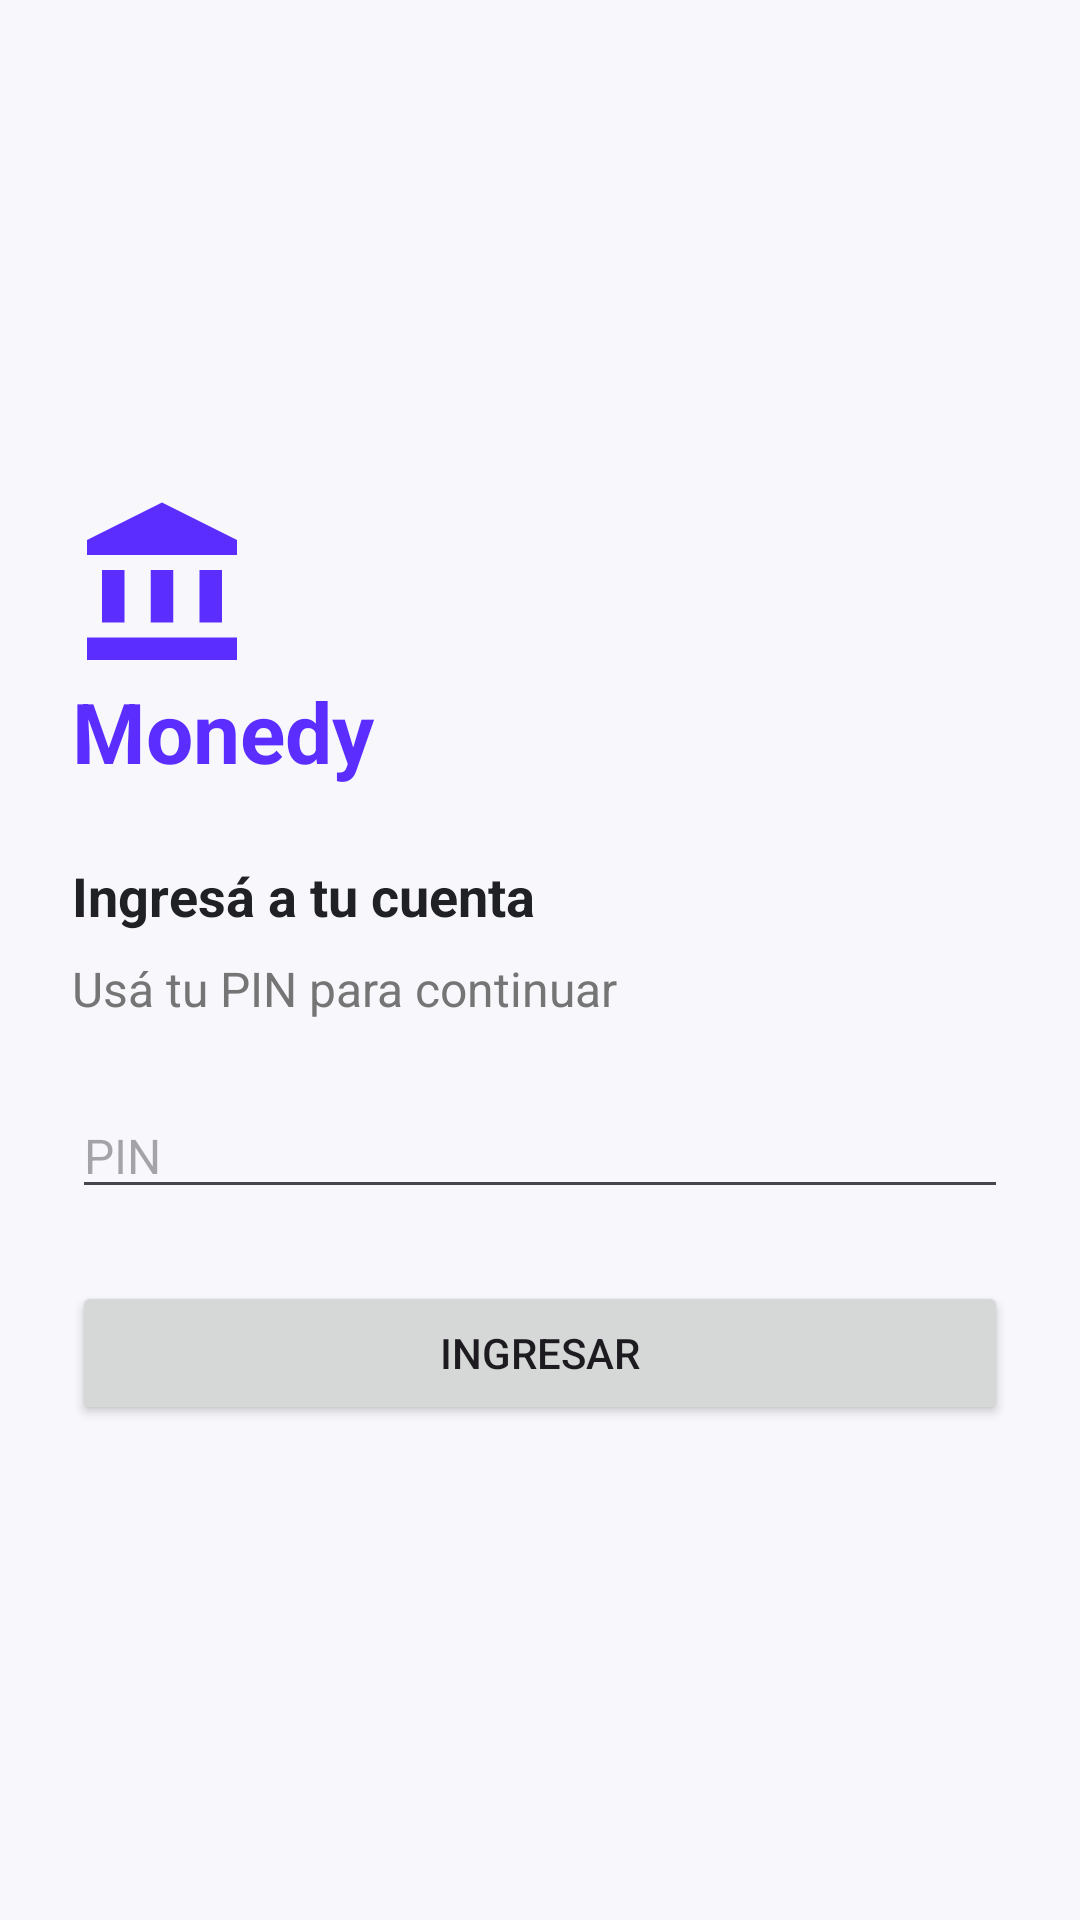

Icon bounding boxes for this 1080×1920 phone screenshot, format rect(x1, y1, x2, y2):
account balance: rect(87, 502, 237, 660)
